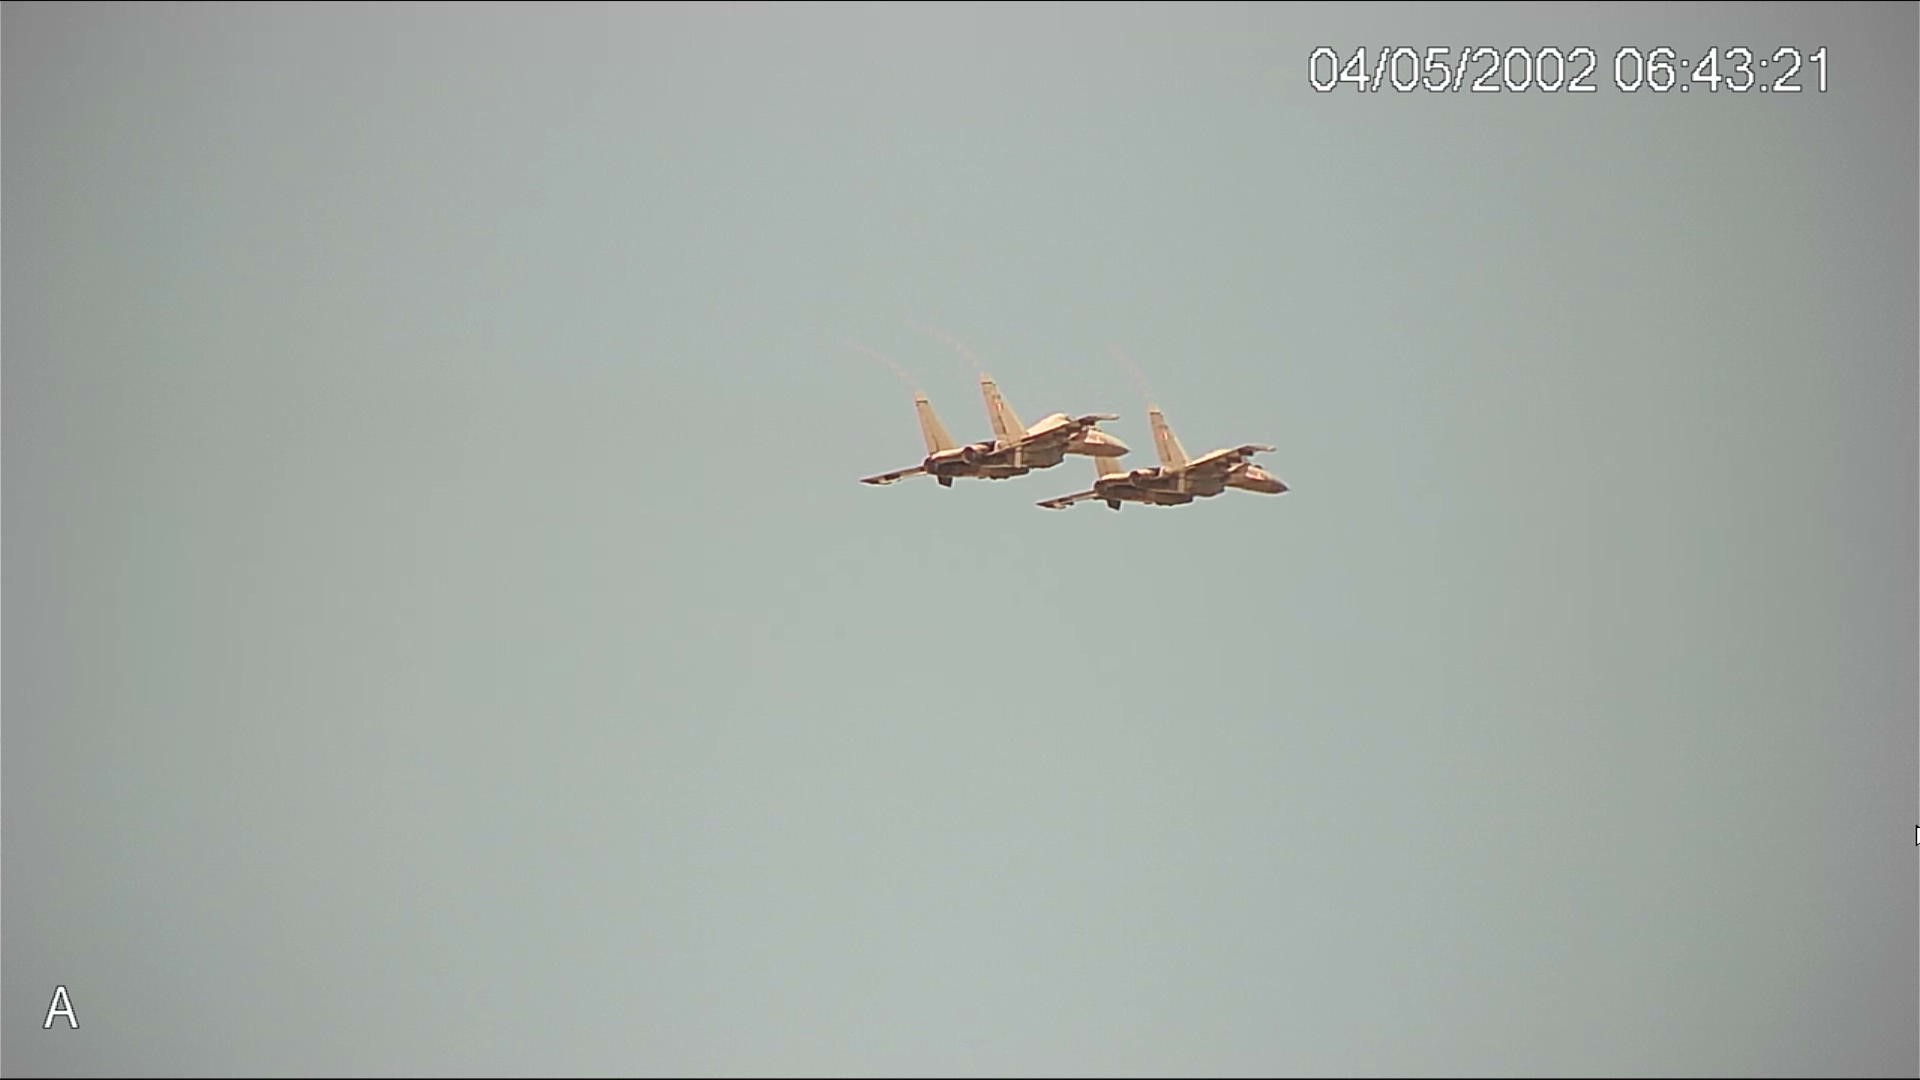SU_30: (860, 375, 1130, 483), (1039, 426, 1288, 513)
